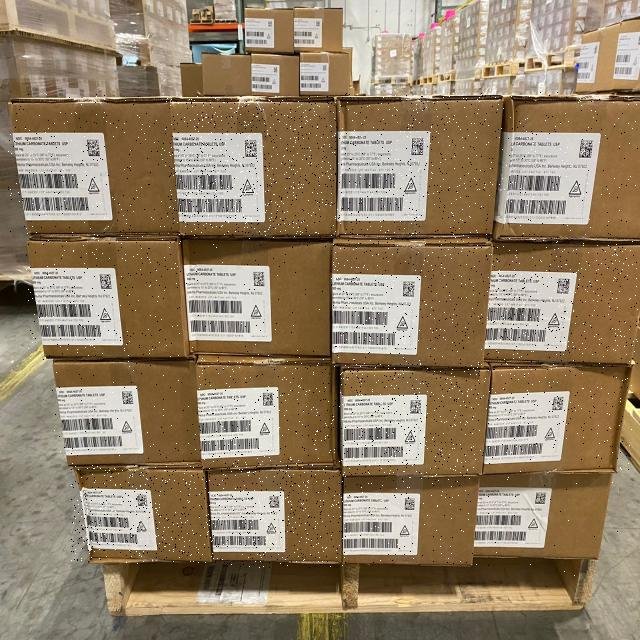BoxFace: (334, 93, 504, 238), (8, 94, 178, 236), (169, 96, 336, 238), (494, 92, 638, 242), (330, 238, 493, 368), (26, 234, 190, 360), (484, 240, 638, 364), (475, 461, 618, 593), (182, 237, 332, 358), (338, 363, 490, 476), (481, 361, 633, 474), (51, 356, 198, 466), (194, 357, 336, 469), (201, 465, 346, 568), (71, 465, 209, 564), (342, 474, 478, 566)
